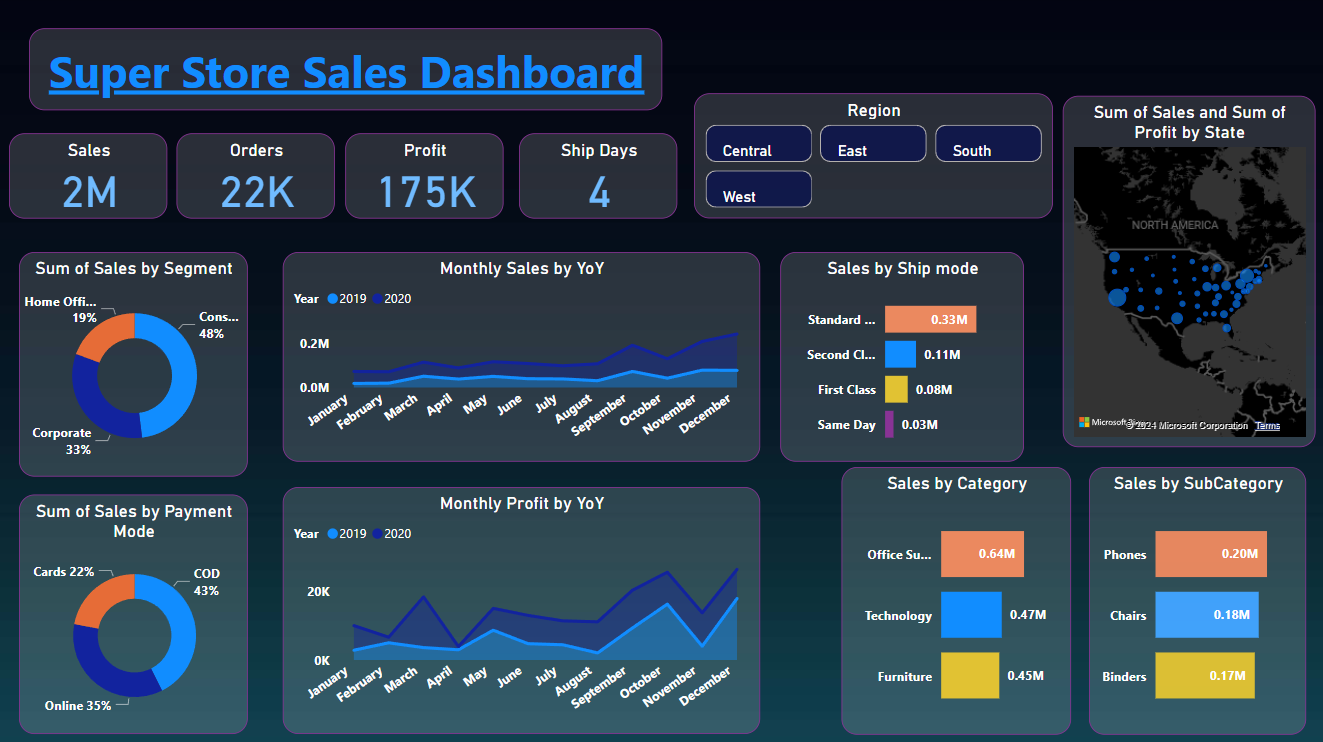

What the dashboard file says about the page in this screenshot:
{"tool":"powerbi","page":{"name":"Page 1","canvas":[1280,720],"ordinal":0},"visuals":[{"type":"clusteredBarChart","title":"Sales by Category","fields":{"Category":["SuperStore_Sales_Dataset.Category"],"Y":["Sum(SuperStore_Sales_Dataset.Sales)"]},"box":[812.9,453.5,221.9,258.1],"z":0},{"type":"clusteredBarChart","title":"Sales by SubCategory","fields":{"Category":["SuperStore_Sales_Dataset.Sub-Category"],"Y":["Sum(SuperStore_Sales_Dataset.Sales)"]},"box":[1051.7,453.5,209.8,258.1],"z":1000},{"type":"clusteredBarChart","title":"Sales by Ship mode","fields":{"Category":["SuperStore_Sales_Dataset.Ship Mode"],"Y":["Sum(SuperStore_Sales_Dataset.Sales)"]},"box":[753.8,246,235.2,202.6],"z":2000},{"type":"stackedAreaChart","title":"Monthly Profit by YoY","fields":{"Category":["SuperStore_Sales_Dataset.Order Date.Variation.Date Hierarchy.Month","SuperStore_Sales_Dataset.Order Date.Variation.Date Hierarchy.Day"],"Series":["SuperStore_Sales_Dataset.Order Date.Variation.Date Hierarchy.Year"],"Y":["Sum(SuperStore_Sales_Dataset.Profit)"]},"box":[273.8,472.8,460.7,238.8],"z":3000},{"type":"stackedAreaChart","title":"Monthly Sales by YoY","fields":{"Category":["SuperStore_Sales_Dataset.Order Date.Variation.Date Hierarchy.Month","SuperStore_Sales_Dataset.Order Date.Variation.Date Hierarchy.Day"],"Y":["Sum(SuperStore_Sales_Dataset.Sales)"],"Series":["SuperStore_Sales_Dataset.Order Date.Variation.Date Hierarchy.Year"]},"box":[273.8,246,460.7,202.6],"z":4000},{"type":"map","fields":{"Category":["SuperStore_Sales_Dataset.State"],"Size":["Sum(SuperStore_Sales_Dataset.Sales)"]},"box":[1026.3,95.3,243.6,338.9],"z":5000},{"type":"donutChart","fields":{"Category":["SuperStore_Sales_Dataset.Segment"],"Y":["Sum(SuperStore_Sales_Dataset.Sales)"]},"box":[19.3,246,220.7,217.1],"z":6000},{"type":"donutChart","fields":{"Category":["SuperStore_Sales_Dataset.Payment Mode"],"Y":["Sum(SuperStore_Sales_Dataset.Sales)"]},"box":[19.3,480,220.7,231.6],"z":7000},{"type":"advancedSlicerVisual","fields":{"Values":["SuperStore_Sales_Dataset.Region"]},"box":[670.6,92.9,346.1,120.6],"z":8000},{"type":"textbox","box":[28.9,30.2,611.5,79.6],"z":9000},{"type":"card","title":"Sales","fields":{"Values":["Sum(SuperStore_Sales_Dataset.Sales)"]},"box":[9.6,131.5,153.2,82],"z":10000},{"type":"card","title":"Orders","fields":{"Values":["Sum(SuperStore_Sales_Dataset.Quantity)"]},"box":[171.3,131.5,153.2,82],"z":11000},{"type":"card","title":"Profit","fields":{"Values":["Sum(SuperStore_Sales_Dataset.Profit)"]},"box":[334.1,131.5,153.2,82],"z":12000},{"type":"card","title":"Ship Days","fields":{"Values":["Avg(SuperStore_Sales_Dataset.AvgDelivery)"]},"box":[501.7,131.5,153.2,82],"z":13000}]}

Visuals, with their boxes in screenshot pixels (x1, y1, x2, y2), scaled from the page's 1280x720 canvas onto the 1323x742 screenshot:
"Sales by Category" clusteredBarChart: [left=840, top=467, right=1070, bottom=733]
"Sales by SubCategory" clusteredBarChart: [left=1087, top=467, right=1304, bottom=733]
"Sales by Ship mode" clusteredBarChart: [left=779, top=254, right=1022, bottom=462]
"Monthly Profit by YoY" stackedAreaChart: [left=283, top=487, right=759, bottom=733]
"Monthly Sales by YoY" stackedAreaChart: [left=283, top=254, right=759, bottom=462]
map - SuperStore_Sales_Dataset.State x Sum(SuperStore_Sales_Dataset.Sales): [left=1061, top=98, right=1313, bottom=447]
donutChart - SuperStore_Sales_Dataset.Segment x Sum(SuperStore_Sales_Dataset.Sales): [left=20, top=254, right=248, bottom=477]
donutChart - SuperStore_Sales_Dataset.Payment Mode x Sum(SuperStore_Sales_Dataset.Sales): [left=20, top=495, right=248, bottom=733]
advancedSlicerVisual - SuperStore_Sales_Dataset.Region: [left=693, top=96, right=1051, bottom=220]
textbox: [left=30, top=31, right=662, bottom=113]
"Sales" card: [left=10, top=136, right=168, bottom=220]
"Orders" card: [left=177, top=136, right=335, bottom=220]
"Profit" card: [left=345, top=136, right=504, bottom=220]
"Ship Days" card: [left=519, top=136, right=677, bottom=220]
